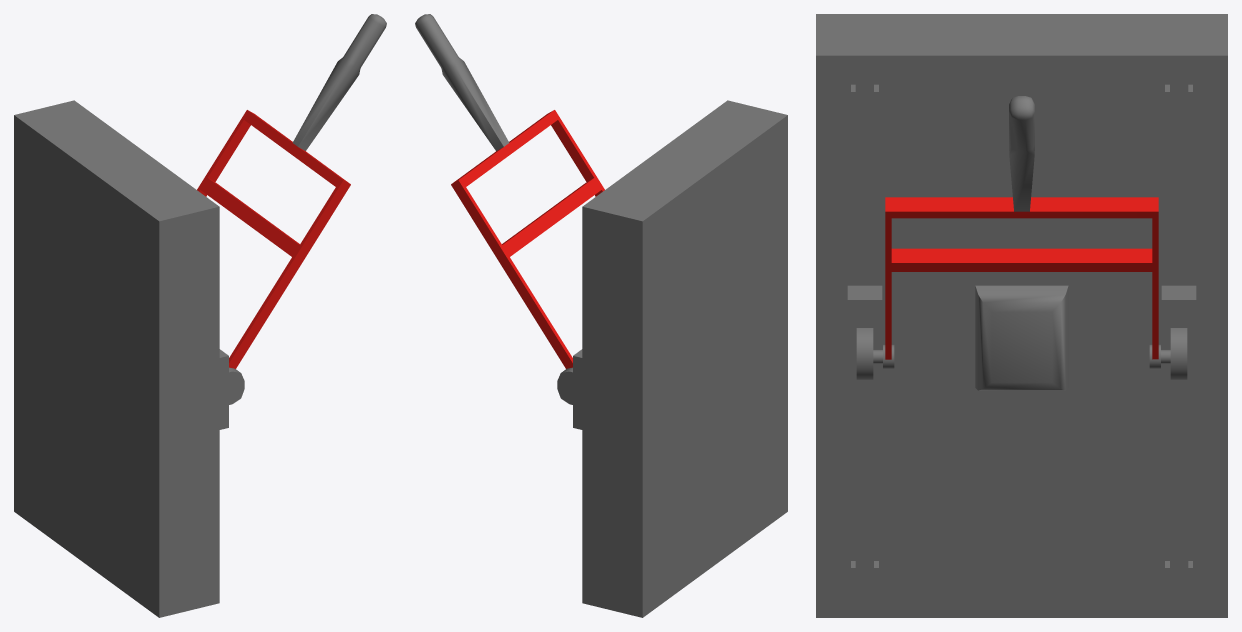
Rendered from рычаг.fbx.
The picture shows the model from 3 angles, left to right: view 1: azimuth 30°, elevation 25°; view 2: azimuth 150°, elevation 25°; view 3: azimuth 270°, elevation 25°; orthographic projection. The views are drawn at different scales.
Visible parts, largest first — view 1: Cube, Cube.001; view 2: Cube, Cube.001; view 3: Cube, Cube.001, Cylinder.
Part boxes in pixels (x1,y1,x2,y2): Cube: [14, 100, 244, 617]; Cube.001: [197, 14, 386, 368]; Cube: [557, 100, 787, 617]; Cube.001: [415, 14, 604, 368]; Cube: [816, 14, 1227, 617]; Cube.001: [885, 96, 1158, 359]; Cylinder: [873, 344, 1170, 369].
Bounding box in the file's own units: 65.78 × 101 × 55.51.
